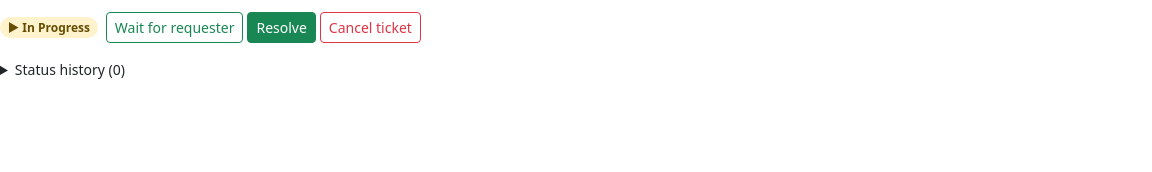
Test: TicketWorkflowControl › UI-13 a successful change refreshes the summary and the history
expect the heading "Status history (0)" is shown: met, box [15,60,125,79]
Click the button "Wait for requester": click(175, 28) [106,12,243,43]
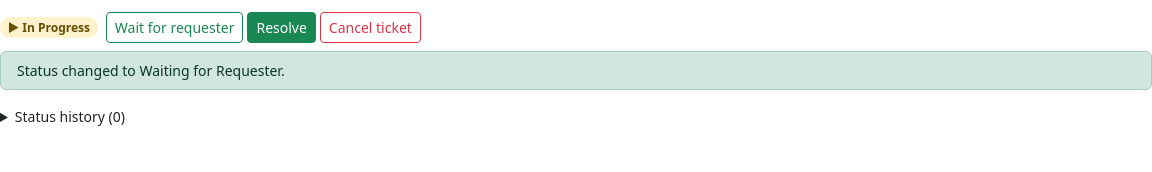
expect the text "Status changed to Waiting for Requester." is shown: met, box [0,51,1151,90]
